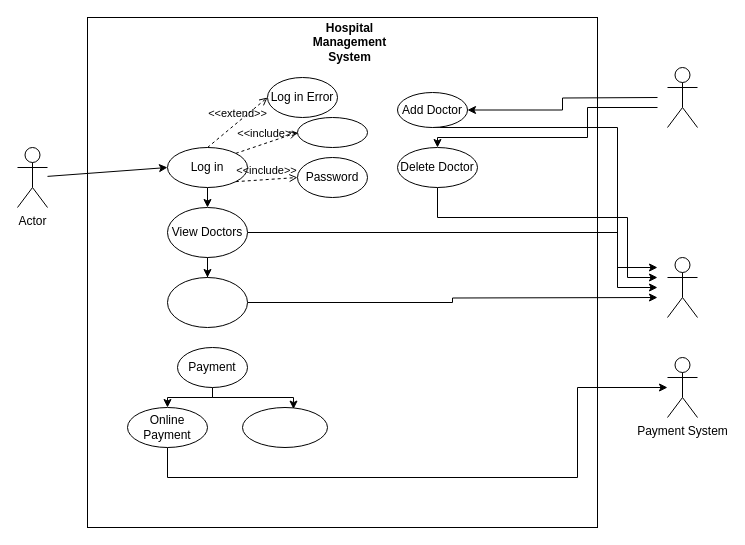
The diagram is 745 pixels wide and 545 high, and some of its shapes have lost their labels. Each missing label, with the box of its shape:
Admin: (666, 66, 698, 128)
Appoinment Doctor: (166, 276, 248, 328)
Cash: (242, 406, 328, 448)
Database: (666, 256, 698, 318)
email: (296, 116, 368, 148)
